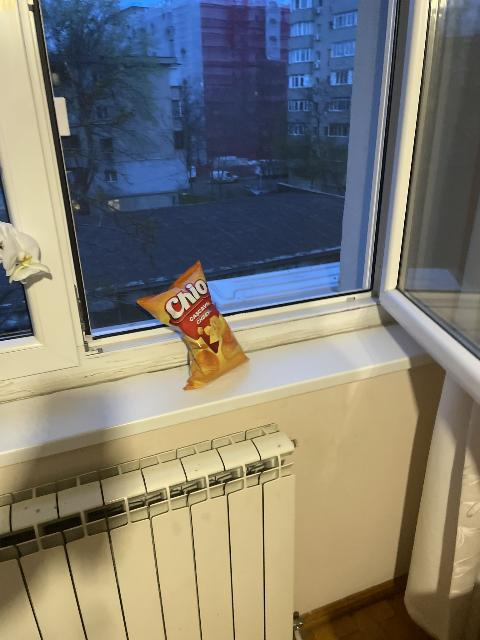Chio Cascaval 125g: (136, 260, 250, 388)
